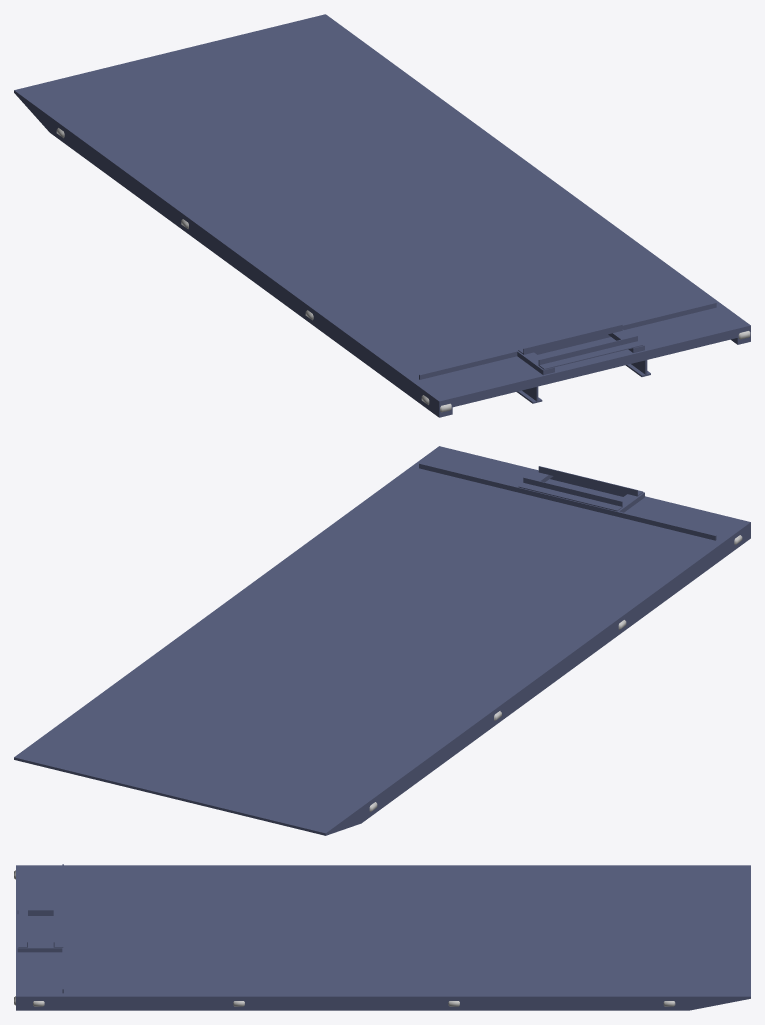
The model's file is G_van_rollback_aux 3.dae.
3 views of the same model, one above another, from view 1: azimuth 30°, elevation 25°; view 2: azimuth 150°, elevation 25°; view 3: azimuth 270°, elevation 25° (orthographic). The views are drawn at different scales.
Parts seen in each view (by area): view 1: G_van_rollback_deck_aux; view 2: G_van_rollback_deck_aux; view 3: G_van_rollback_deck_aux.
Part boxes in pixels (left/top/right/bottom): G_van_rollback_deck_aux: left=14, top=14, right=750, bottom=417; G_van_rollback_deck_aux: left=14, top=446, right=750, bottom=835; G_van_rollback_deck_aux: left=16, top=864, right=750, bottom=1010.
Size of the model in its own units: 2.54 by 5.94 by 0.2993.
